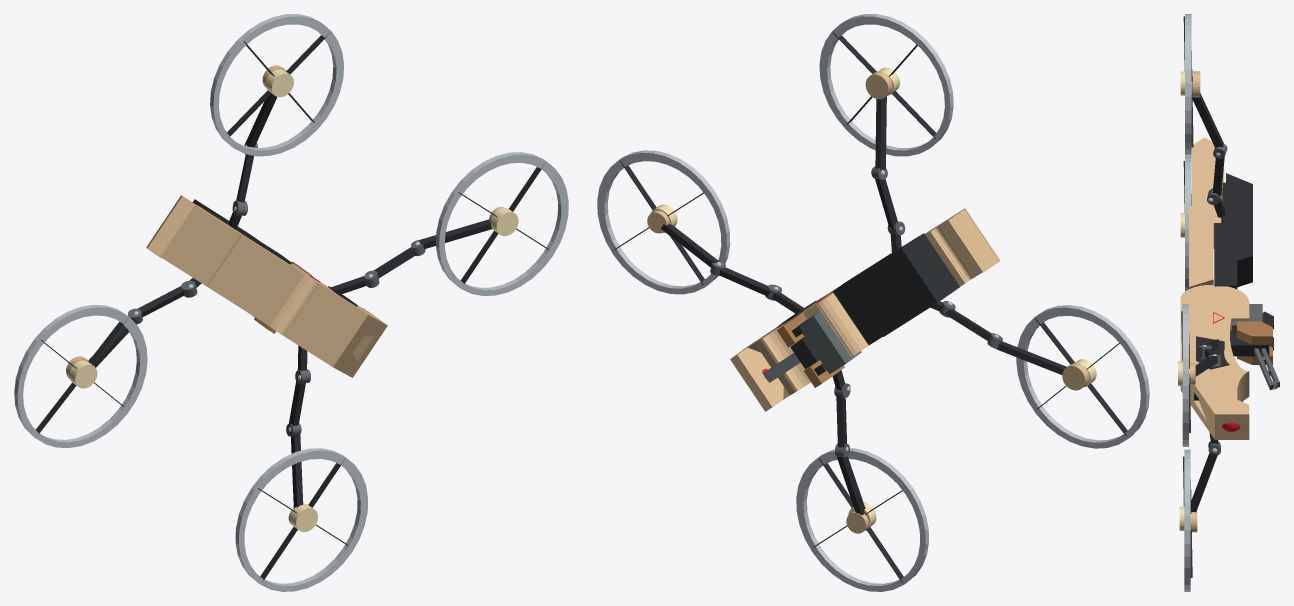
The model's file is quadrotor.obj.
The picture shows the model from 3 angles, left to right: view 1: azimuth 30°, elevation 25°; view 2: azimuth 150°, elevation 25°; view 3: azimuth 270°, elevation 25°; orthographic projection. The views are drawn at different scales.
Parts seen in each view (by area): view 1: group_0_-4208692, group_0_-1916779, group_0_-13947343, group_0_-465225, group_0_-10393750; view 2: group_0_-13947343, group_0_-4208692, group_0_-1916779, group_0_-10393750, group_0_-465225, group_0_-5670064; view 3: group_0_-1916779, group_0_-13947343, group_0_-4208692, group_0_-10393750, group_0_-5670064, group_0_-465225, group_0_-1499859.
Boxes of the visible parts, left/top/right/bottom form: group_0_-4208692: left=14, top=14, right=568, bottom=591; group_0_-1916779: left=66, top=65, right=503, bottom=525; group_0_-13947343: left=36, top=32, right=548, bottom=581; group_0_-465225: left=69, top=69, right=518, bottom=532; group_0_-10393750: left=128, top=142, right=425, bottom=436; group_0_-13947343: left=614, top=32, right=1127, bottom=582; group_0_-4208692: left=597, top=14, right=1149, bottom=591; group_0_-1916779: left=647, top=71, right=1089, bottom=533; group_0_-10393750: left=710, top=166, right=1002, bottom=457; group_0_-465225: left=650, top=67, right=1096, bottom=528; group_0_-5670064: left=777, top=309, right=844, bottom=387; group_0_-1916779: left=1180, top=71, right=1249, bottom=532; group_0_-13947343: left=1181, top=16, right=1273, bottom=577; group_0_-4208692: left=1182, top=14, right=1220, bottom=591; group_0_-10393750: left=1198, top=144, right=1279, bottom=454; group_0_-5670064: left=1237, top=321, right=1272, bottom=364; group_0_-465225: left=1178, top=71, right=1192, bottom=530; group_0_-1499859: left=1213, top=312, right=1240, bottom=431.
Size of the model in its own units: 115 by 115 by 19.07.
